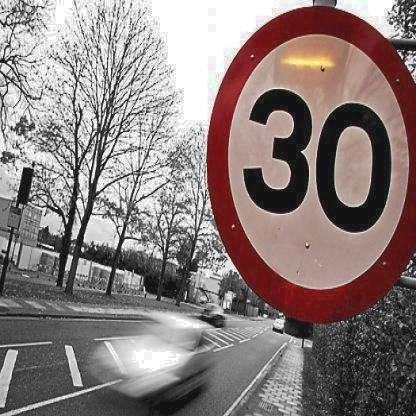Speed Limit -30-: (205, 3, 416, 322)
